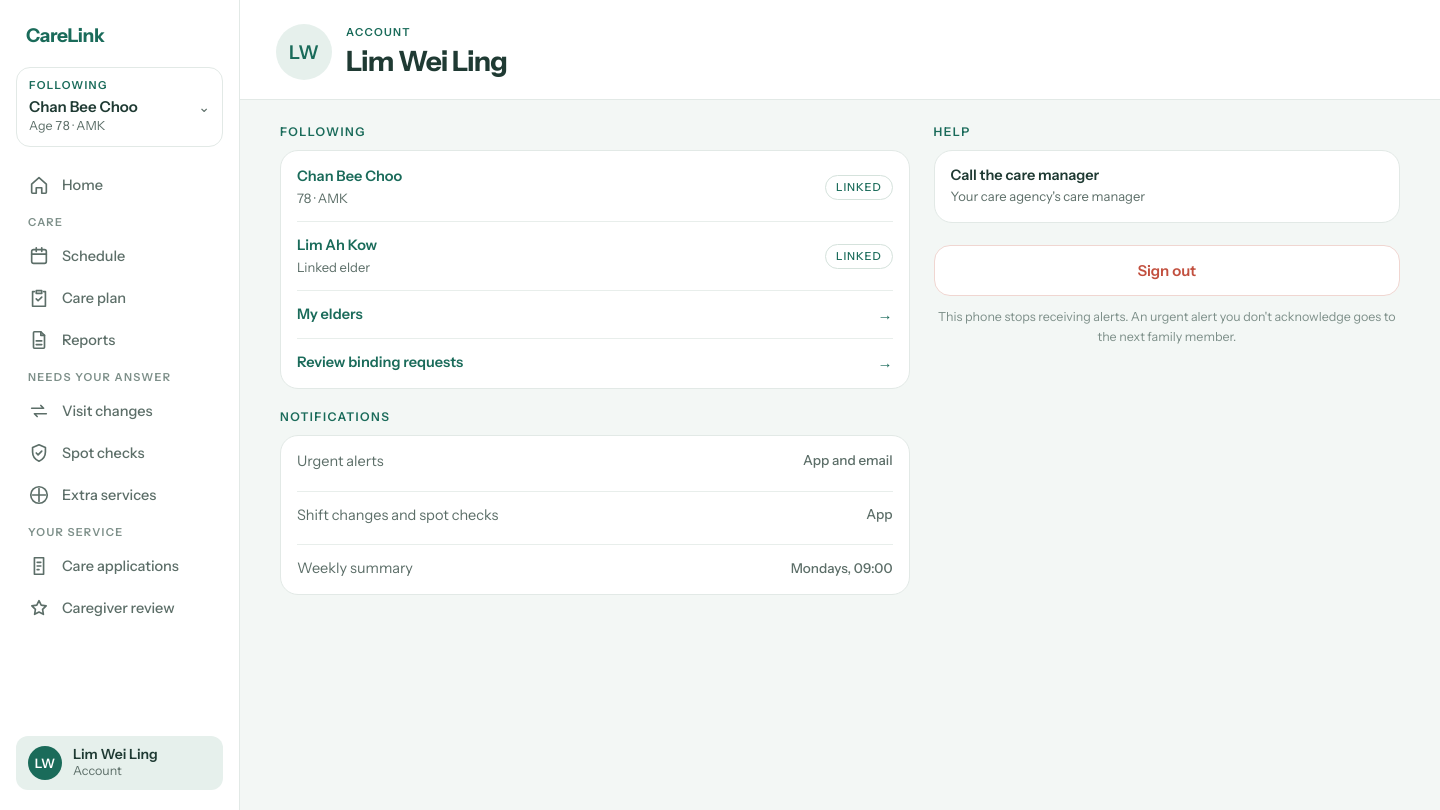
it: Family account › stays on Account and explains when sign-out fails
This screenshot has width=1440, height=810.
Click the button "Sign out" at (1167, 270), box [934,245,1400,296]
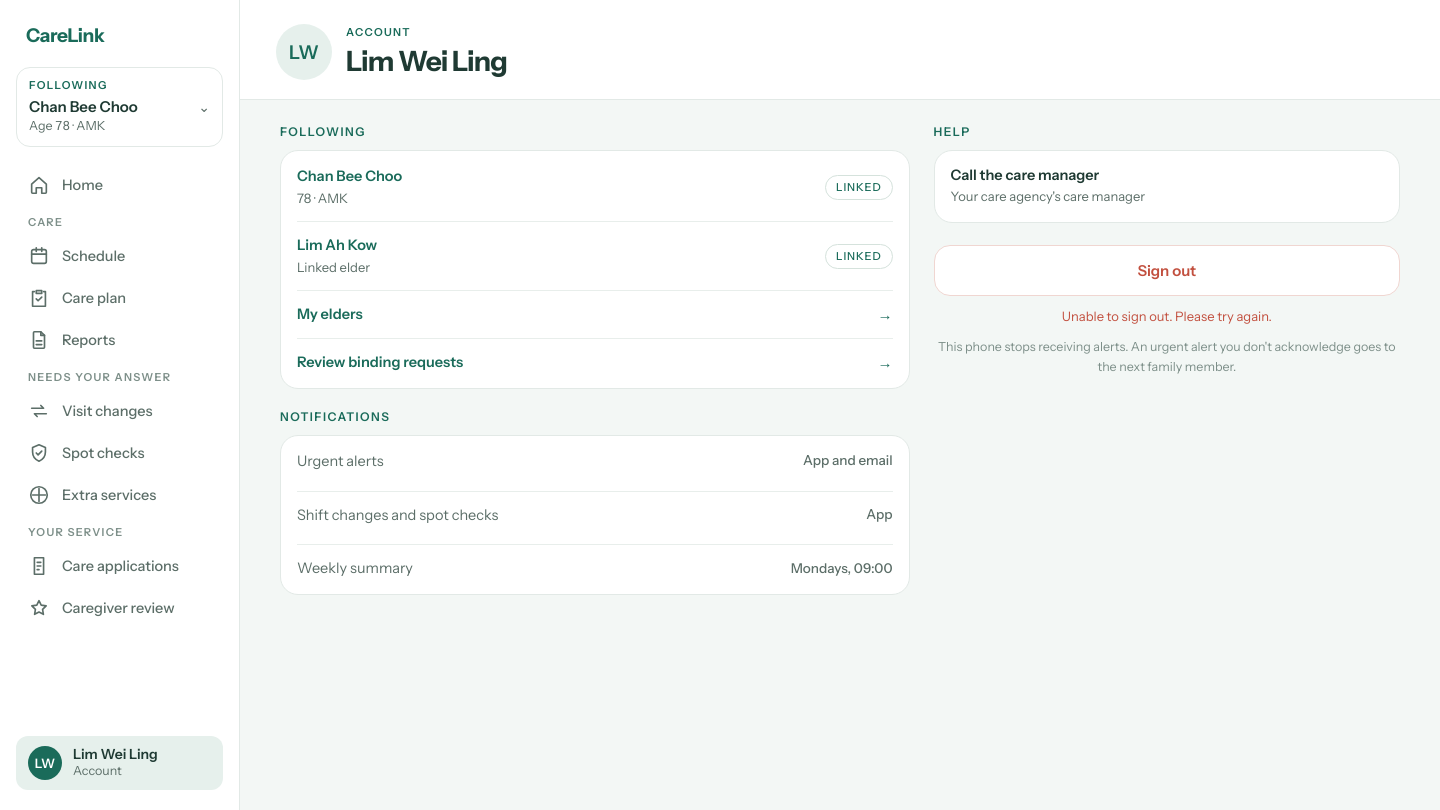
Check: the message reads "Unable to sign out. Please try again.", box [1062,308,1272,324]
